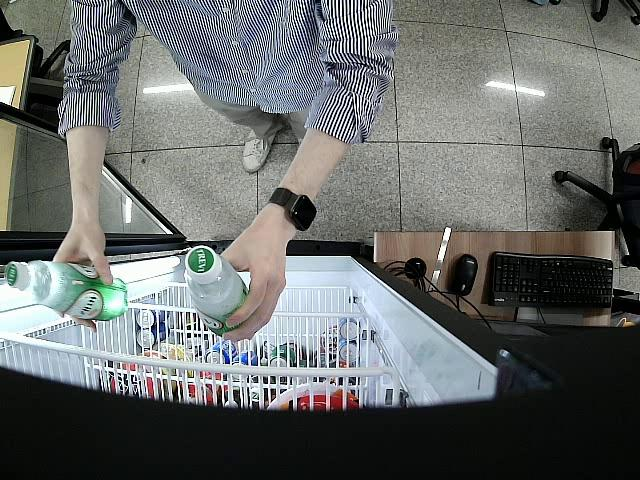00_hand: (50, 223, 114, 335), (220, 239, 287, 342)
18_trevi: (5, 258, 130, 322), (185, 245, 248, 337)
